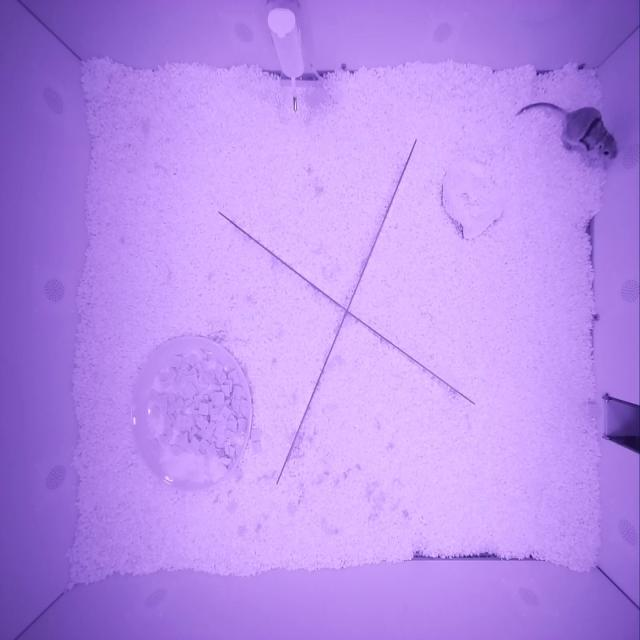adult_front: (563, 106, 618, 161)
